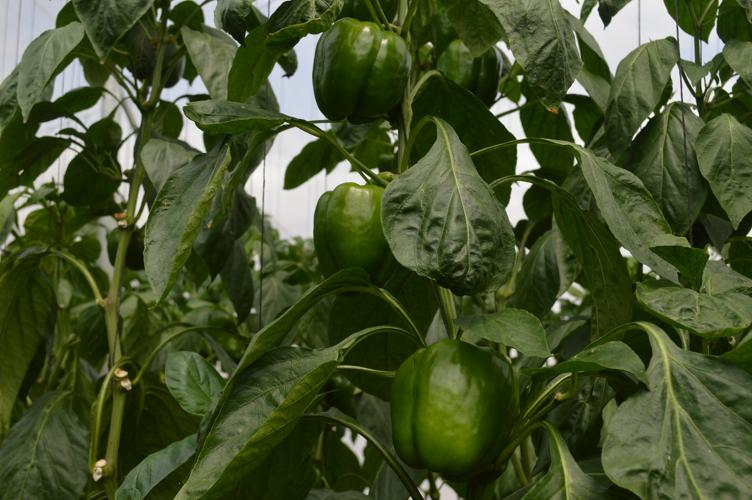BellPepper: (385, 338, 513, 477), (307, 20, 412, 127), (309, 183, 391, 292), (436, 41, 505, 107), (142, 42, 185, 85)
